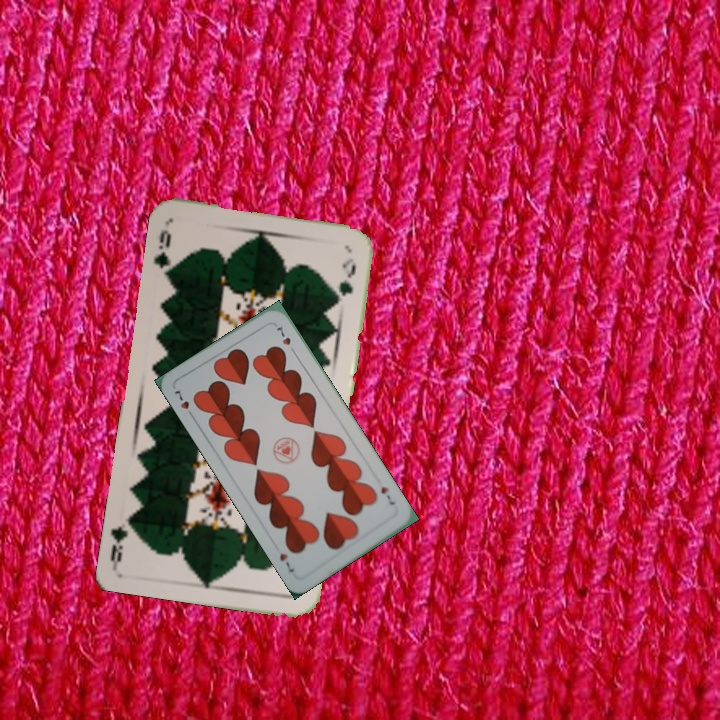G9: (149, 226, 176, 281)
H7: (170, 385, 197, 421), (377, 482, 397, 508)
